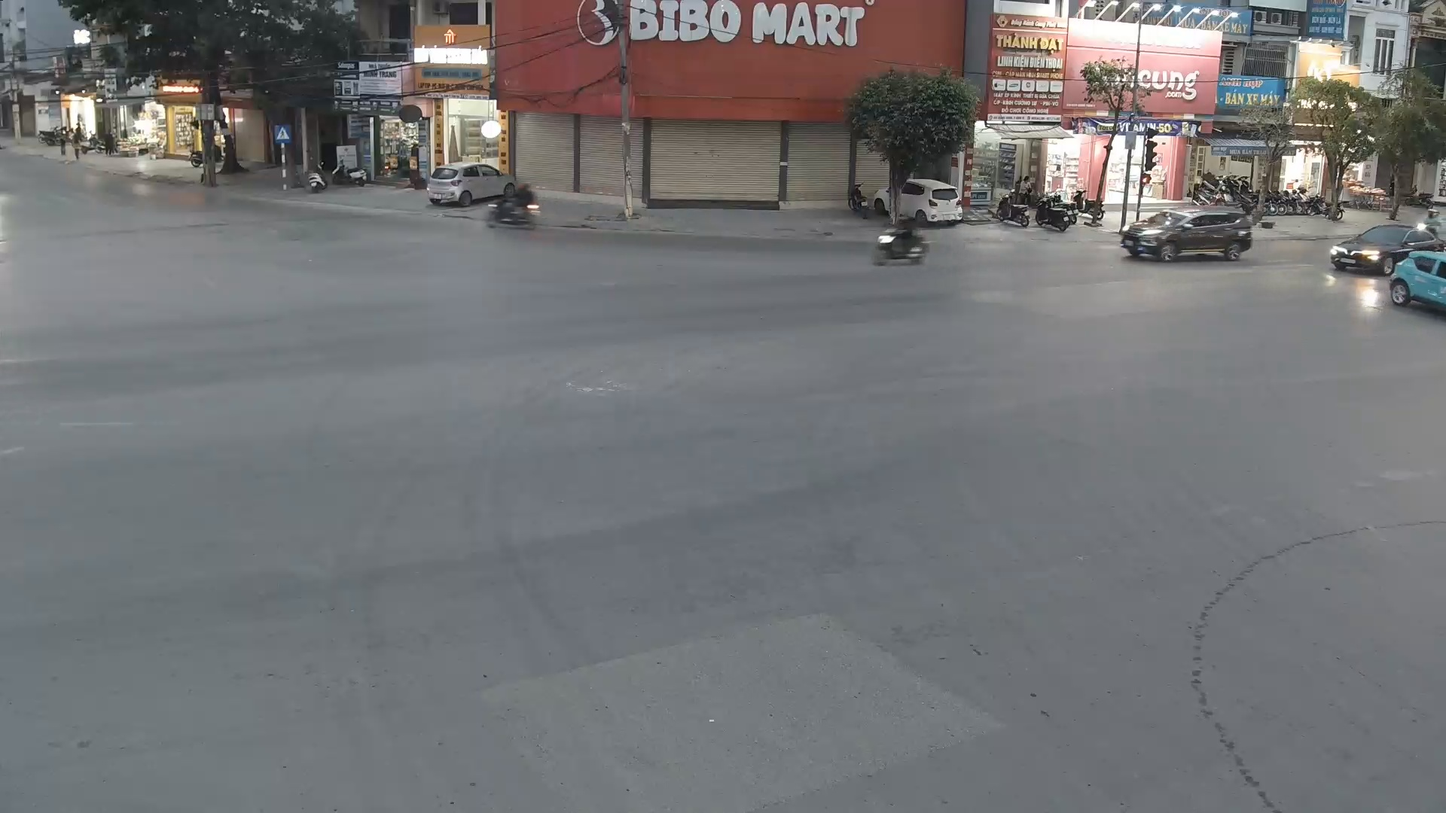car: (1120, 203, 1255, 266), (1328, 221, 1443, 278), (1387, 246, 1445, 330), (426, 162, 516, 210)
motorbike: (483, 177, 543, 231), (871, 216, 930, 268)
